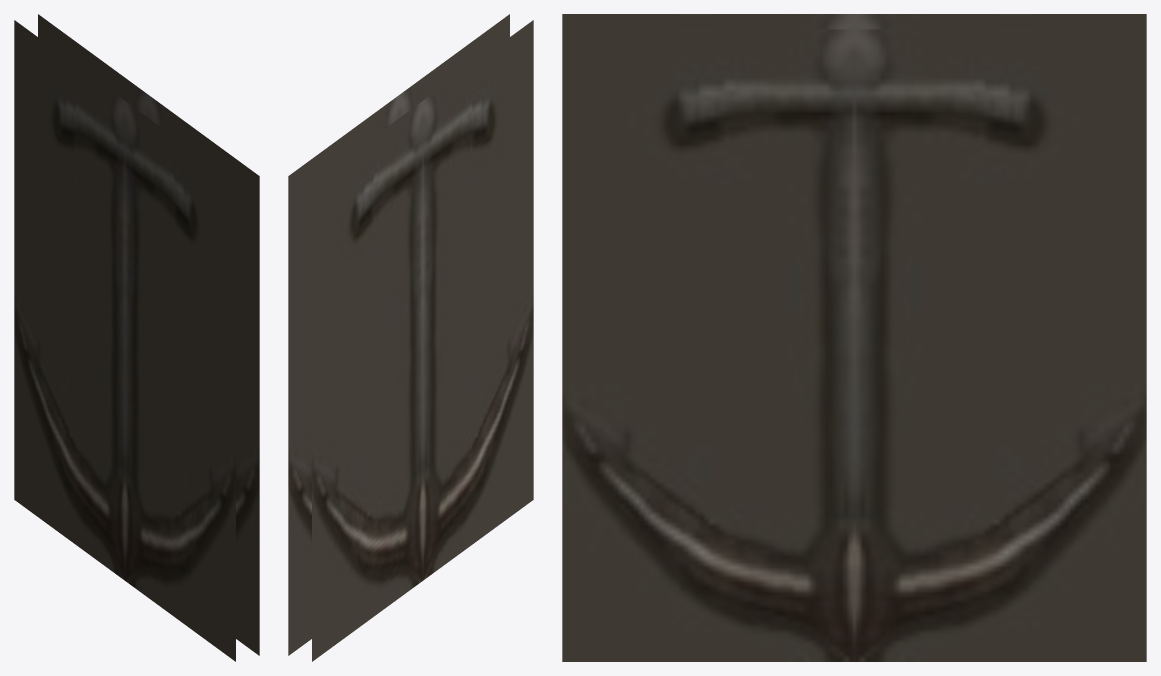
File: sign1_eng_c_icon_shipwright.fbx
The picture shows the model from 3 angles, left to right: view 1: azimuth 30°, elevation 25°; view 2: azimuth 150°, elevation 25°; view 3: azimuth 270°, elevation 25°; orthographic projection. The views are drawn at different scales.
Parts seen in each view (by area): view 1: icons; view 2: icons; view 3: icons.
Boxes of the visible parts, bbox=[...] form: icons: bbox=[14, 14, 259, 661]; icons: bbox=[288, 14, 533, 661]; icons: bbox=[562, 14, 1146, 661].
Size of the model in its own units: 16.67 by 321 by 269.
Materials: 1 (1 with a texture image).
